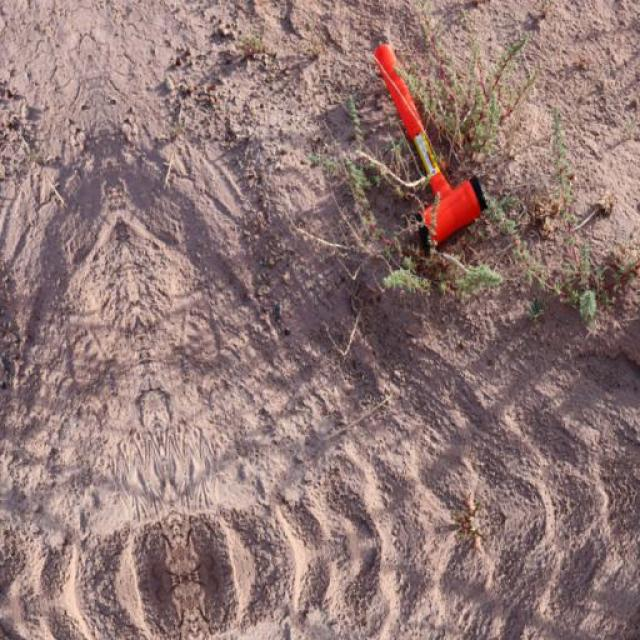mallet: (370, 41, 488, 249)
